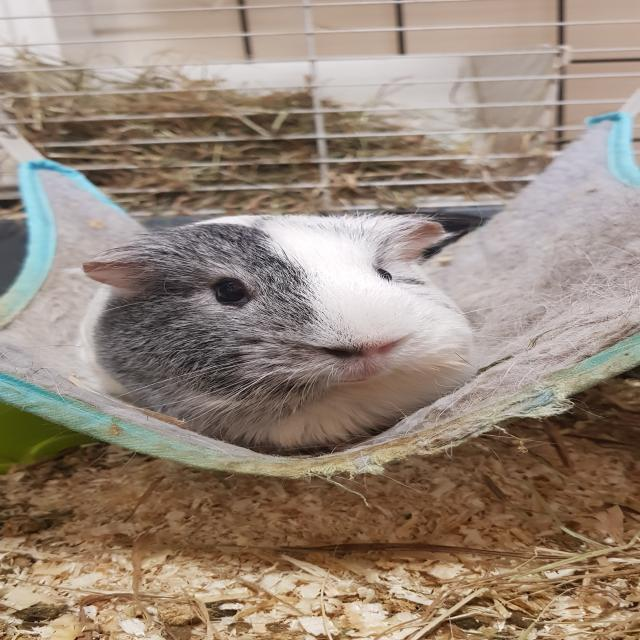guinea pig: (74, 208, 486, 458)
